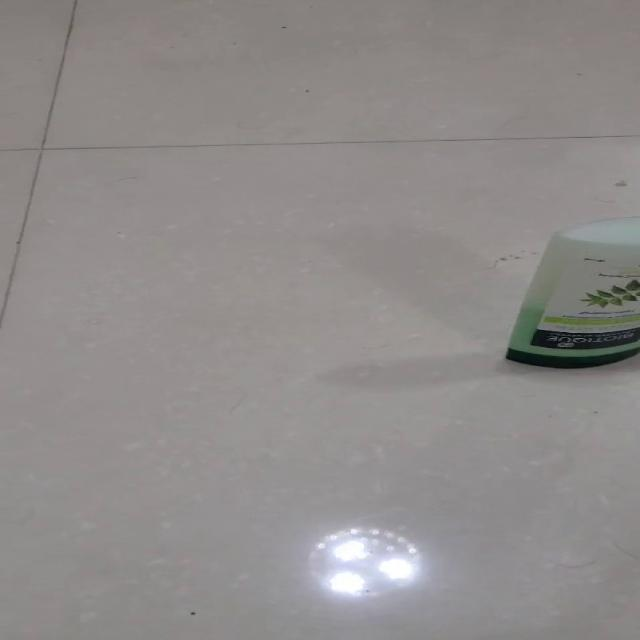plastic: (504, 215, 638, 368)
